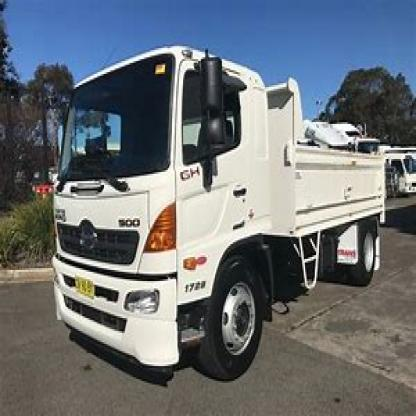dump_truck: (44, 44, 392, 384)
